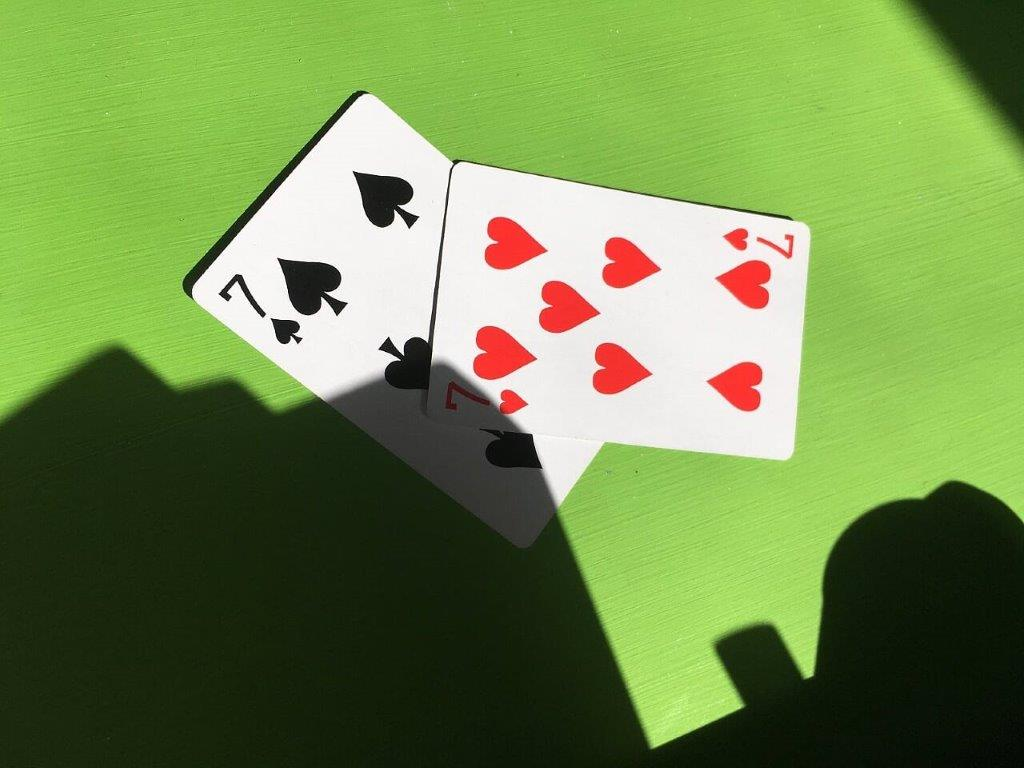7H: (425, 158, 811, 465)
7S: (190, 92, 423, 478)
